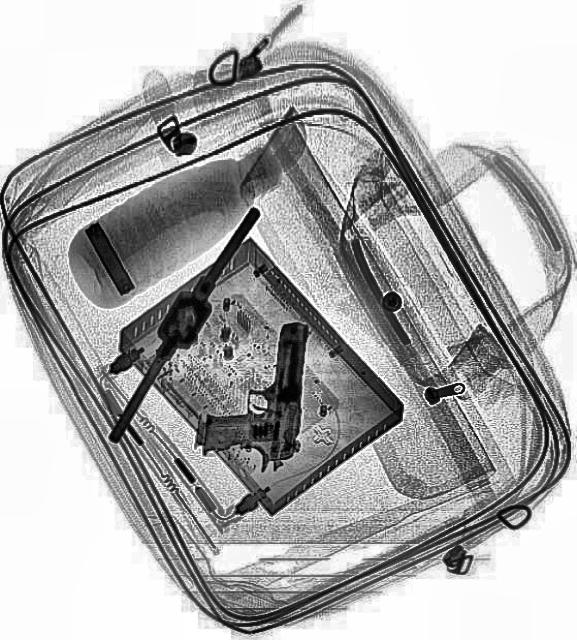Gun: (194, 314, 306, 476)
